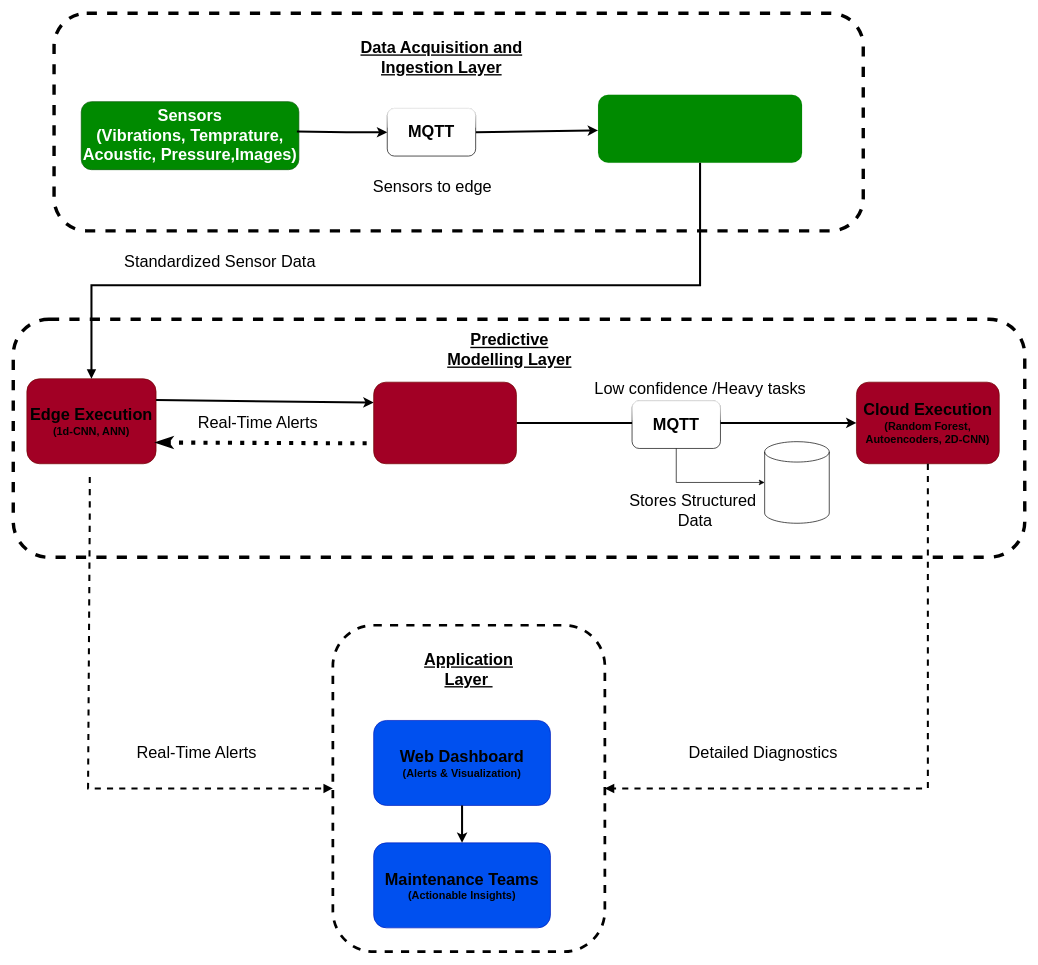
Some shapes in this 1038 by 965 pixel diagram are drawn without their labels. Each missing label, with the box of its shape:
Mongo DB: (764, 441, 829, 523)
Preprossing (FFT, RMS, Z-score): (598, 95, 802, 163)
Task Scheduler (Confidence Check , Resource-Aware Scheduling): (373, 381, 516, 464)
